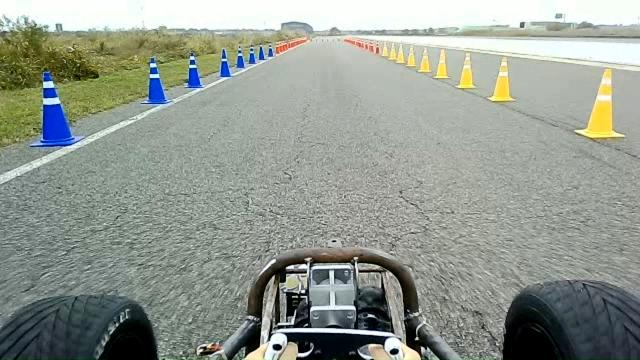blue cone: (29, 70, 84, 147), (140, 56, 172, 104), (184, 51, 204, 88), (218, 47, 232, 78), (236, 45, 246, 68), (248, 44, 256, 63), (258, 45, 266, 60), (267, 44, 274, 57)
yellow cone: (574, 67, 626, 139), (488, 56, 516, 102), (455, 52, 476, 88), (433, 47, 450, 78), (416, 47, 432, 73), (405, 45, 417, 67), (396, 44, 406, 63), (388, 42, 397, 61), (381, 41, 388, 57)
